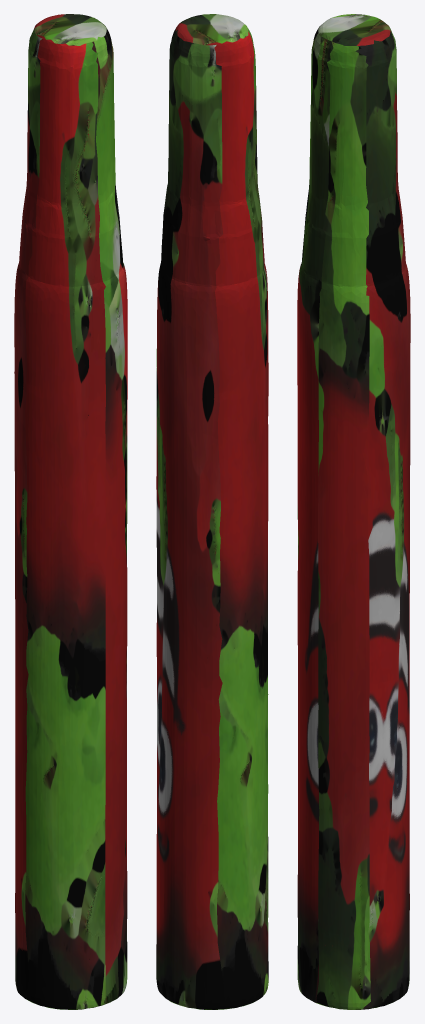
Rendered from sample.obj.
The picture shows the model from 3 angles, left to right: view 1: azimuth 90°, elevation 25°; view 2: azimuth 150°, elevation 25°; view 3: azimuth 270°, elevation 25°; orthographic projection.
Visible parts, largest first — view 1: sample.obj; view 2: sample.obj; view 3: sample.obj.
Boxes of the visible parts, bbox=[...] form: sample.obj: bbox=[14, 14, 127, 1009]; sample.obj: bbox=[156, 14, 268, 1009]; sample.obj: bbox=[297, 14, 410, 1009].
Size of the model in its own units: 0.014 by 0.131 by 0.014.
